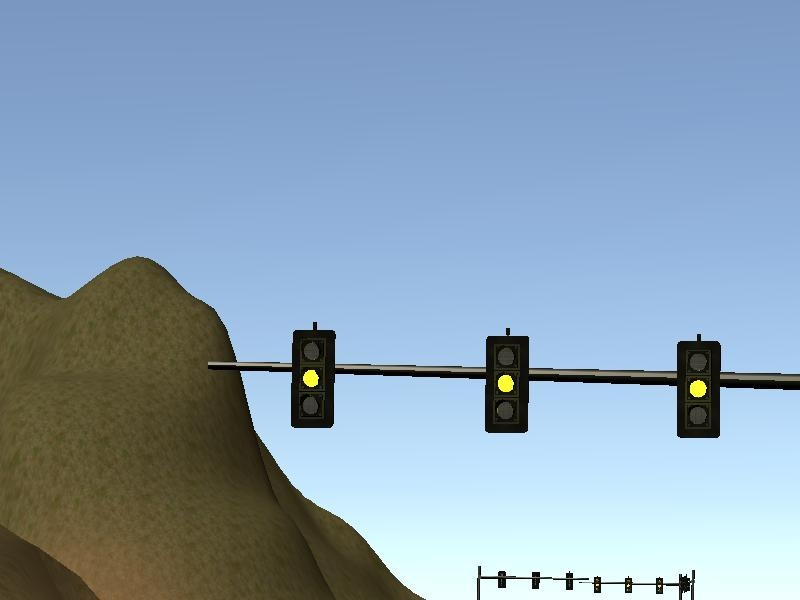YELLOW: (289, 329, 334, 429), (483, 334, 528, 434), (675, 341, 720, 441)
